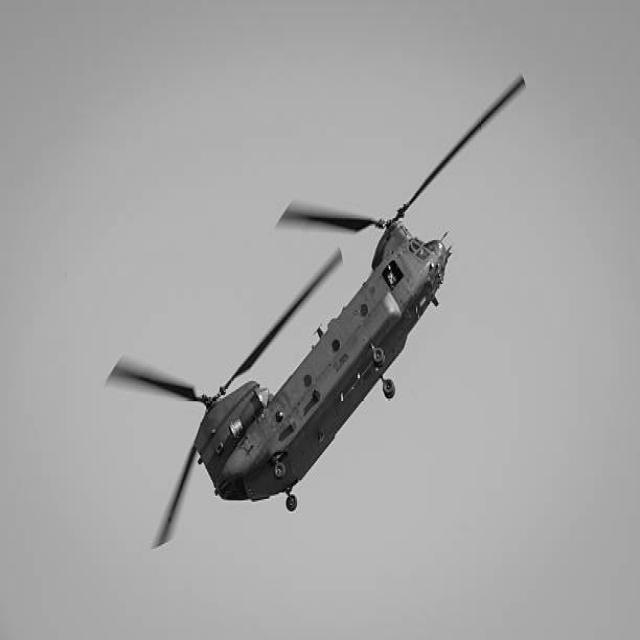Helicopter: (110, 202, 452, 544)
